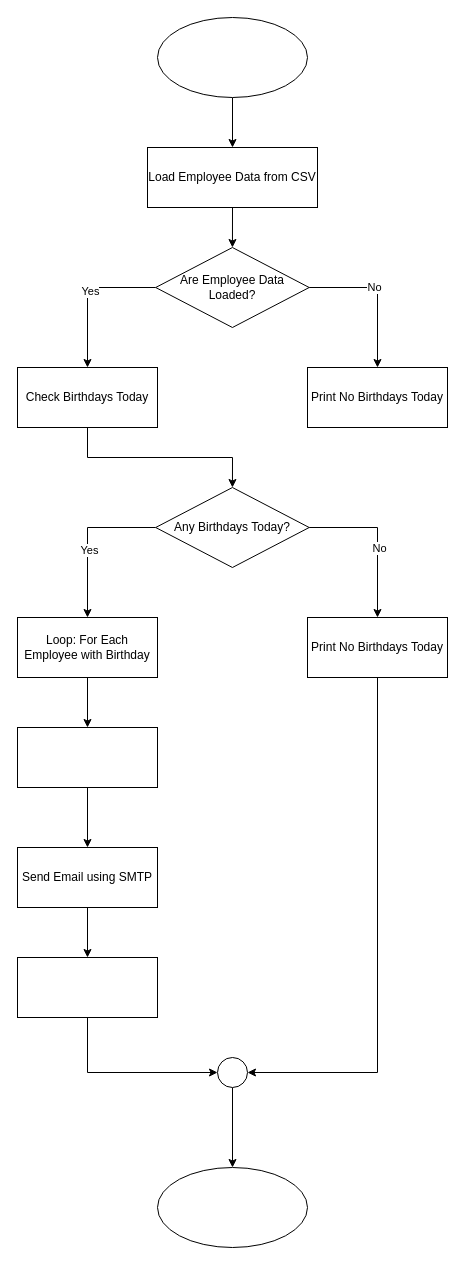
The diagram is 465 pixels wide and 1265 high, and some of its shapes have lost their labels. The shapes that lost their labels are listed below. From the top down, each one's box as (x1, y1, x2, y2) in pixels, then its label:
(156, 16, 308, 98): Start
(16, 726, 158, 788): Compose Email
(16, 956, 158, 1018): Log Success or Failure
(156, 1166, 308, 1248): End
